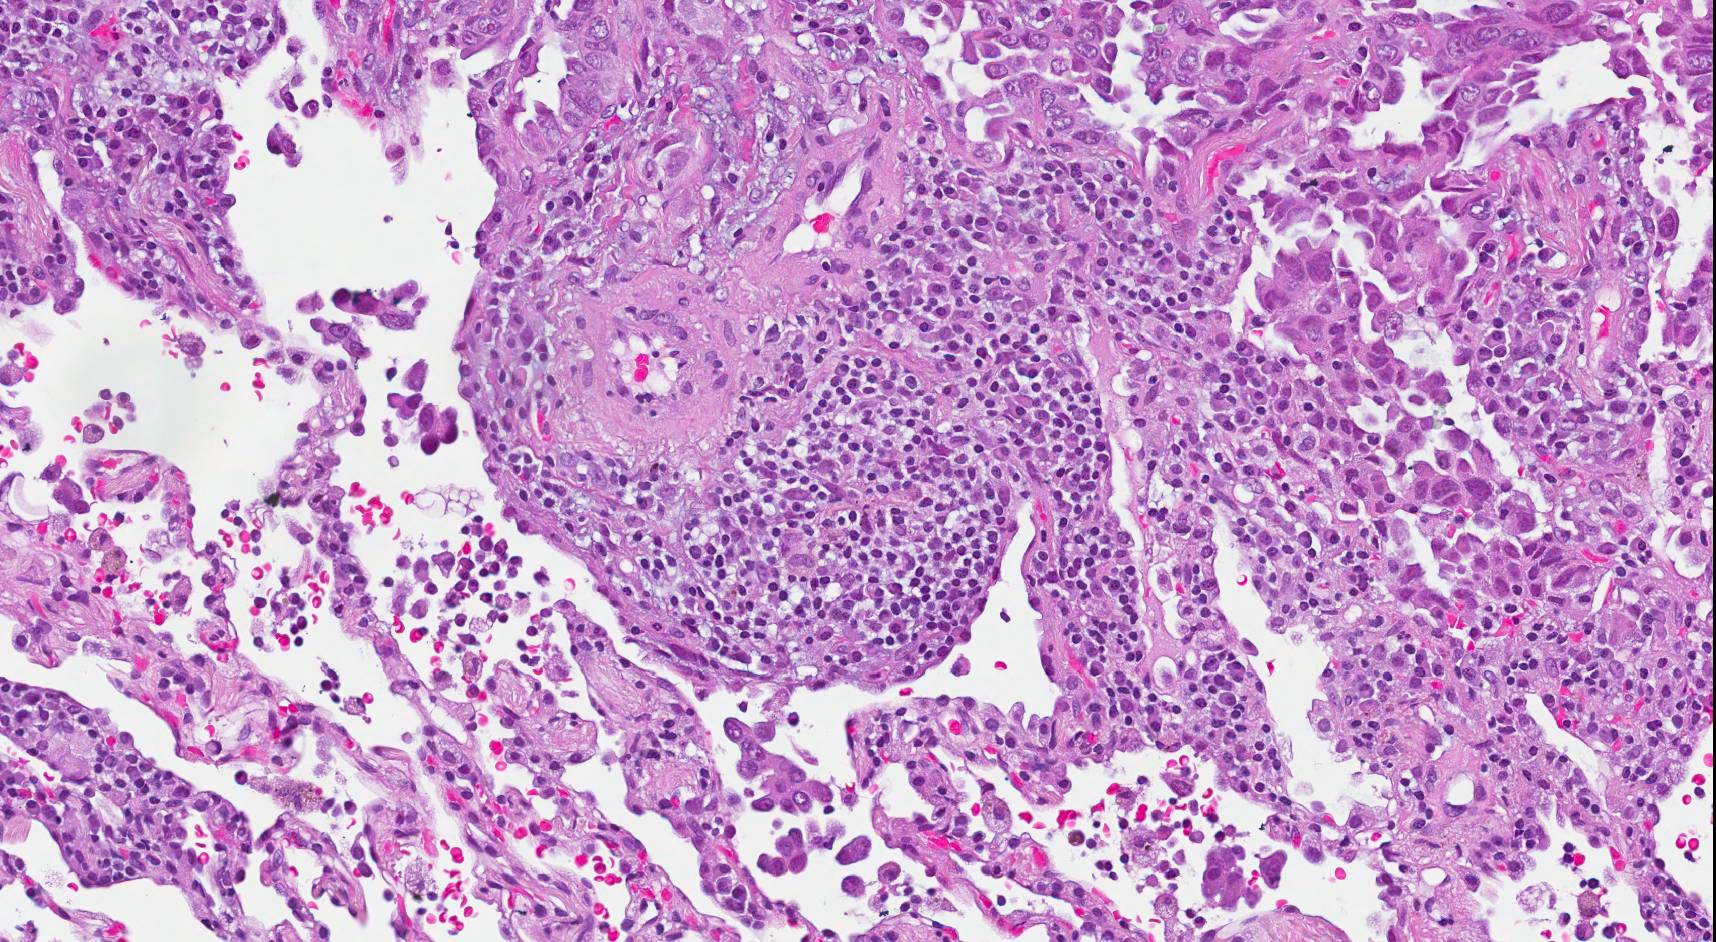stas: (724, 717, 846, 815), (297, 283, 441, 359), (1196, 839, 1294, 916), (382, 383, 469, 455), (835, 831, 905, 901), (755, 829, 814, 881)
